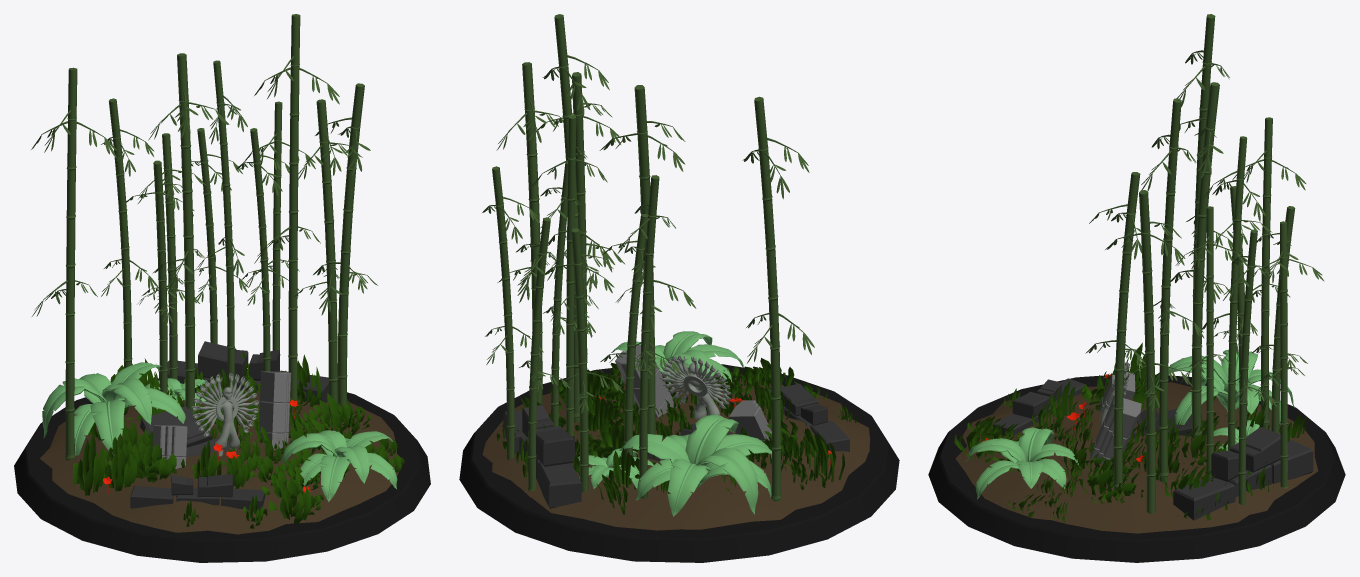
The model's file is DisplayScene.fbx.
The picture shows the model from 3 angles, left to right: view 1: azimuth 30°, elevation 25°; view 2: azimuth 150°, elevation 25°; view 3: azimuth 270°, elevation 25°; orthographic projection. The views are drawn at different scales.
Visible parts, largest first — view 1: DisplayBase, Ground, Bush1, Bamboo6, Bamboo5, Bamboo10, Bush, Bamboo4, Bamboo3, Bamboo1, Bricks, Bamboo9 (+17 smaller); view 2: DisplayBase, Ground, Bush1, Bamboo6, Bricks3, Bamboo9, Bamboo10, Bamboo4, Bamboo2, Bamboo1, Bamboo8, Bamboo5 (+13 smaller); view 3: DisplayBase, Ground, Bricks3, Bamboo5, Bamboo10, Bamboo4, Bamboo3, Bush, Bamboo1, Bamboo9, Bush1, Bamboo12 (+10 smaller).
Part boxes in pixels (x1,y1,x2,y2): DisplayBase: [14, 378, 430, 562]; Ground: [40, 390, 401, 534]; Bush1: [42, 362, 185, 455]; Bamboo6: [31, 67, 116, 460]; Bamboo5: [254, 14, 339, 409]; Bamboo10: [148, 53, 229, 414]; Bush: [282, 430, 397, 501]; Bamboo4: [313, 83, 377, 412]; Bamboo3: [294, 99, 362, 425]; Bamboo1: [195, 60, 247, 386]; Bricks: [130, 474, 265, 510]; Bamboo9: [101, 98, 157, 406]; DisplayBase: [459, 364, 899, 562]; Ground: [482, 372, 870, 530]; Bush1: [618, 414, 771, 516]; Bamboo6: [742, 96, 814, 501]; Bricks3: [503, 405, 581, 508]; Bamboo9: [617, 175, 680, 498]; Bamboo10: [599, 85, 696, 434]; Bamboo4: [496, 62, 563, 405]; Bamboo2: [482, 166, 543, 459]; Bamboo1: [530, 114, 607, 436]; Bamboo8: [542, 228, 623, 492]; Bamboo5: [542, 14, 614, 422]; DisplayBase: [928, 374, 1345, 562]; Ground: [955, 382, 1318, 533]; Bricks3: [1173, 427, 1313, 520]; Bamboo5: [1141, 98, 1204, 482]; Bamboo10: [1170, 82, 1230, 438]; Bamboo4: [1105, 190, 1192, 513]; Bamboo3: [1085, 172, 1145, 493]; Bush: [965, 427, 1080, 499]; Bamboo1: [1199, 136, 1265, 450]; Bamboo9: [1232, 117, 1306, 429]; Bush1: [1155, 349, 1294, 424]; Bamboo12: [1254, 221, 1324, 488].
Size of the model in its own units: 8.9 by 10.22 by 8.9.
